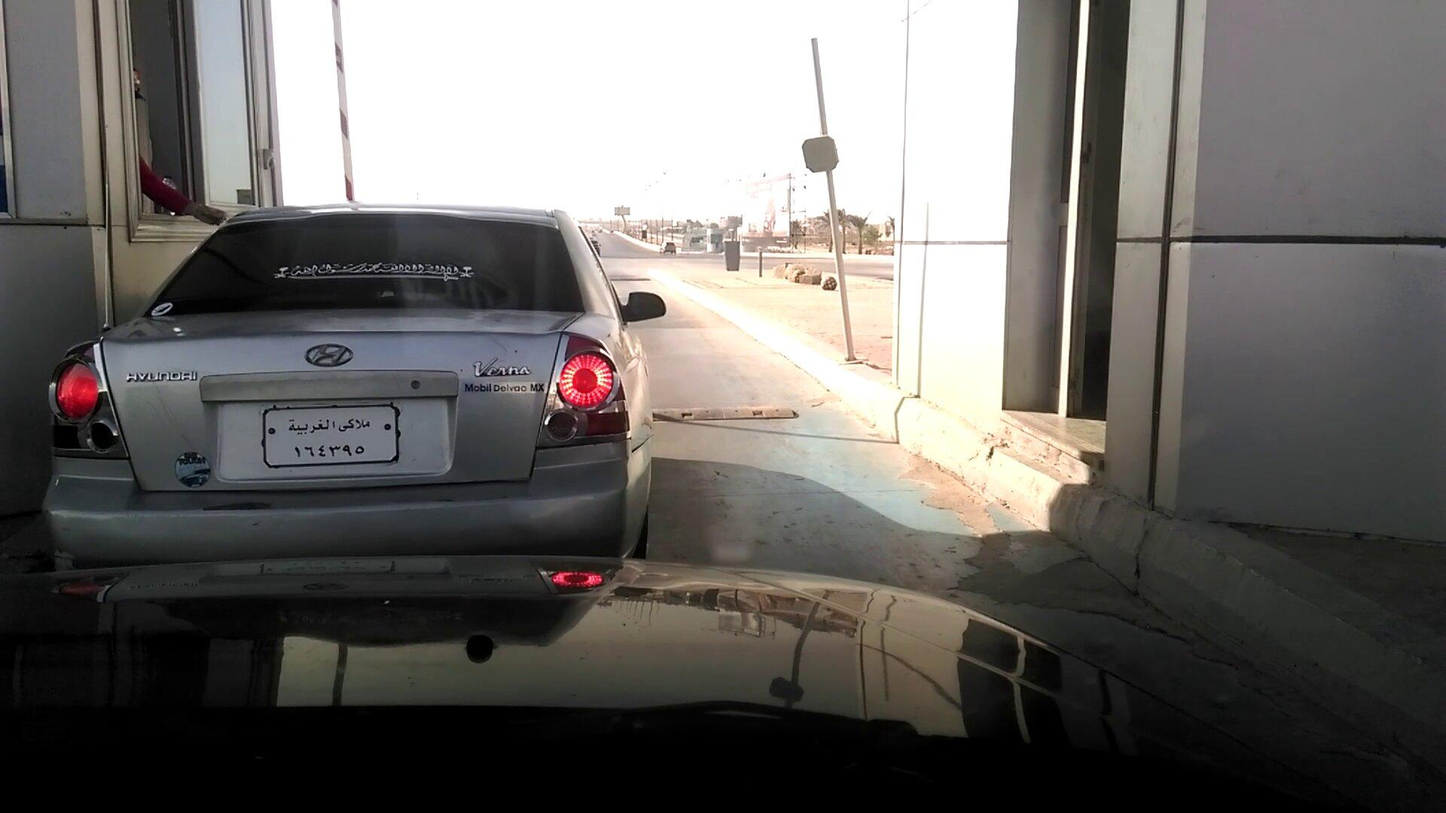Bump: (644, 405, 805, 423)
